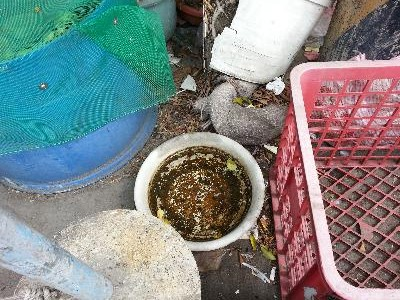bowl: (131, 131, 266, 252)
